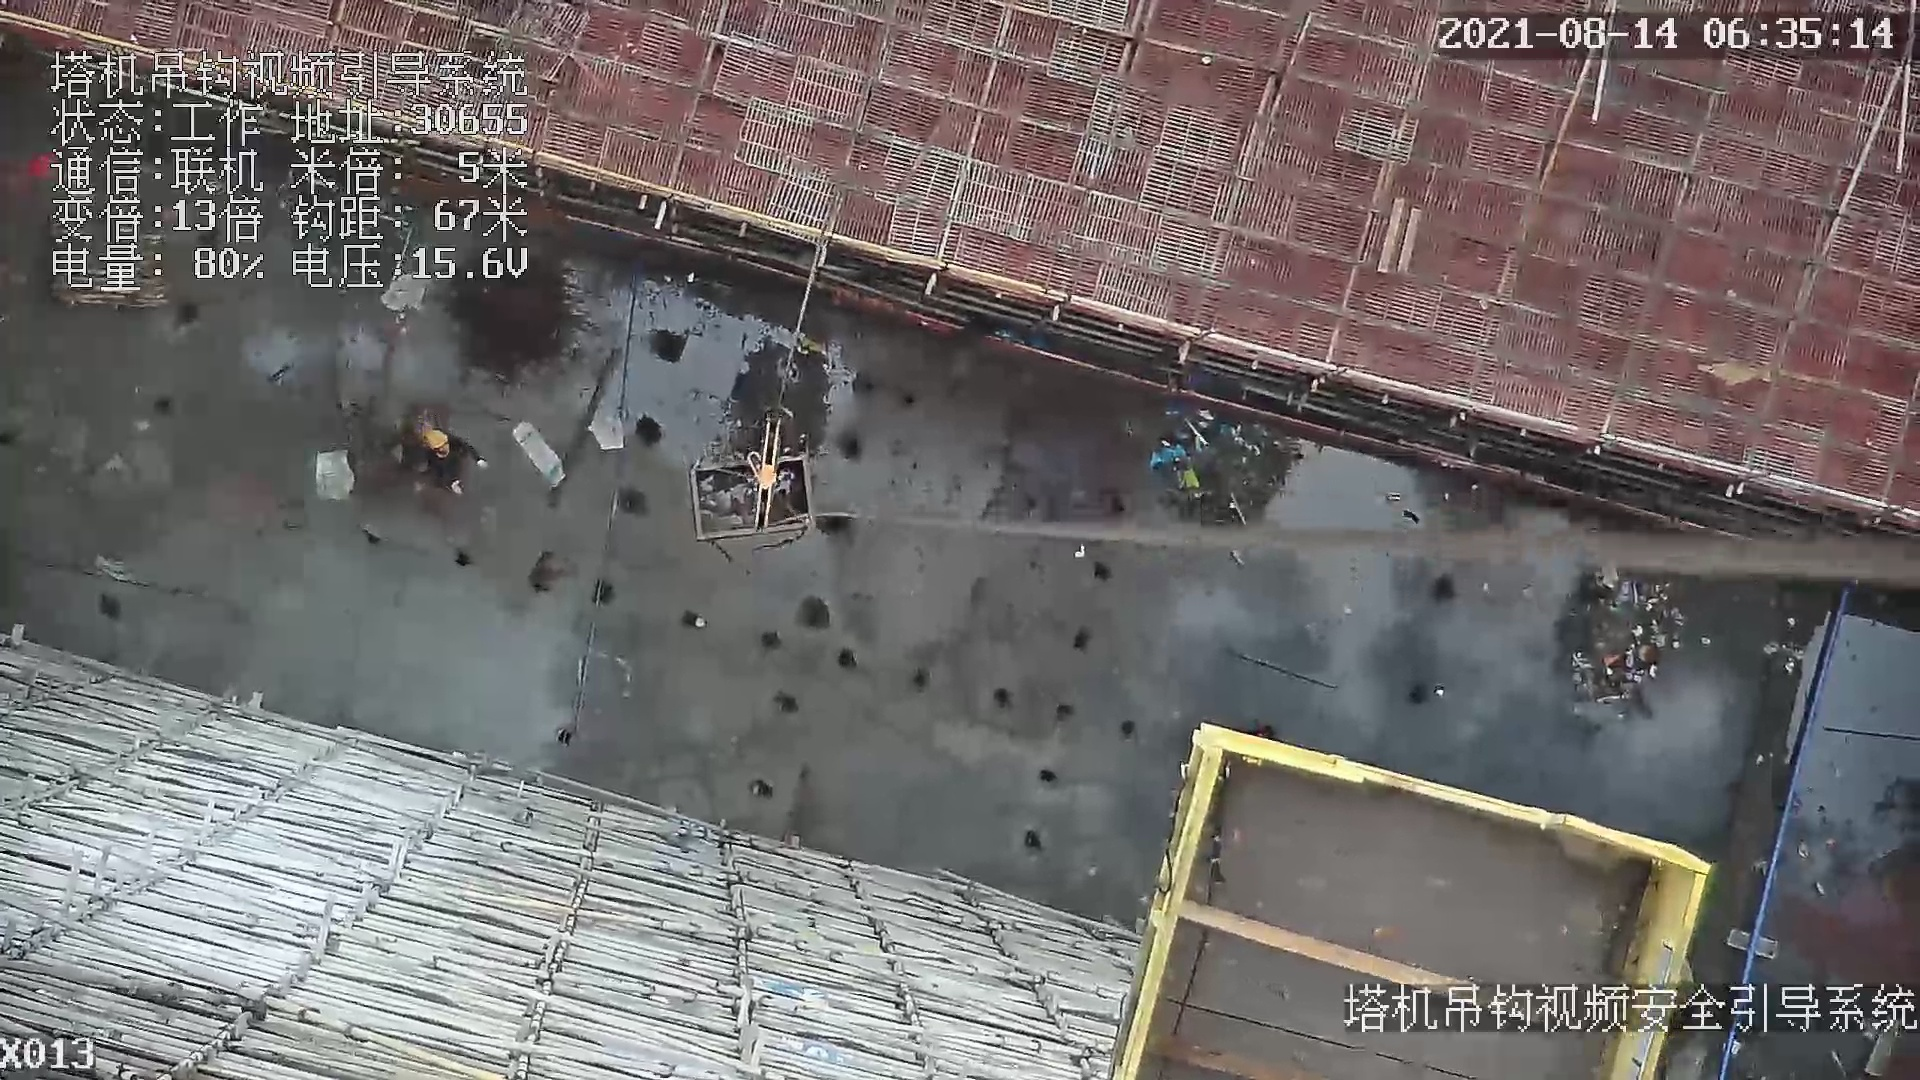helmet: (424, 429, 451, 451)
hook: (746, 415, 777, 533)
hopper: (683, 449, 840, 551)
person: (419, 423, 488, 503)
